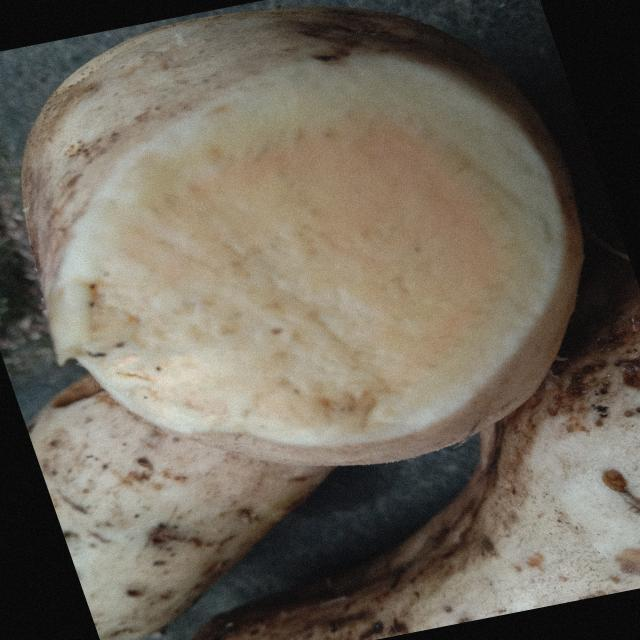Healthy Sweet Potato: (48, 55, 563, 445)
